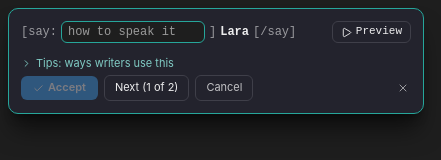
SayEditor › Next skips without editing
Click the button "Next (1 of 2)": [147, 88] box [104,76,189,101]
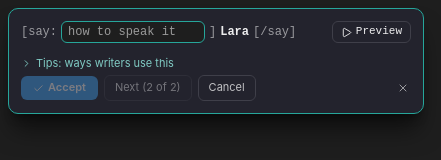
Expected: the button "Next (2 of 2)" is shown, [104,76,192,101]
